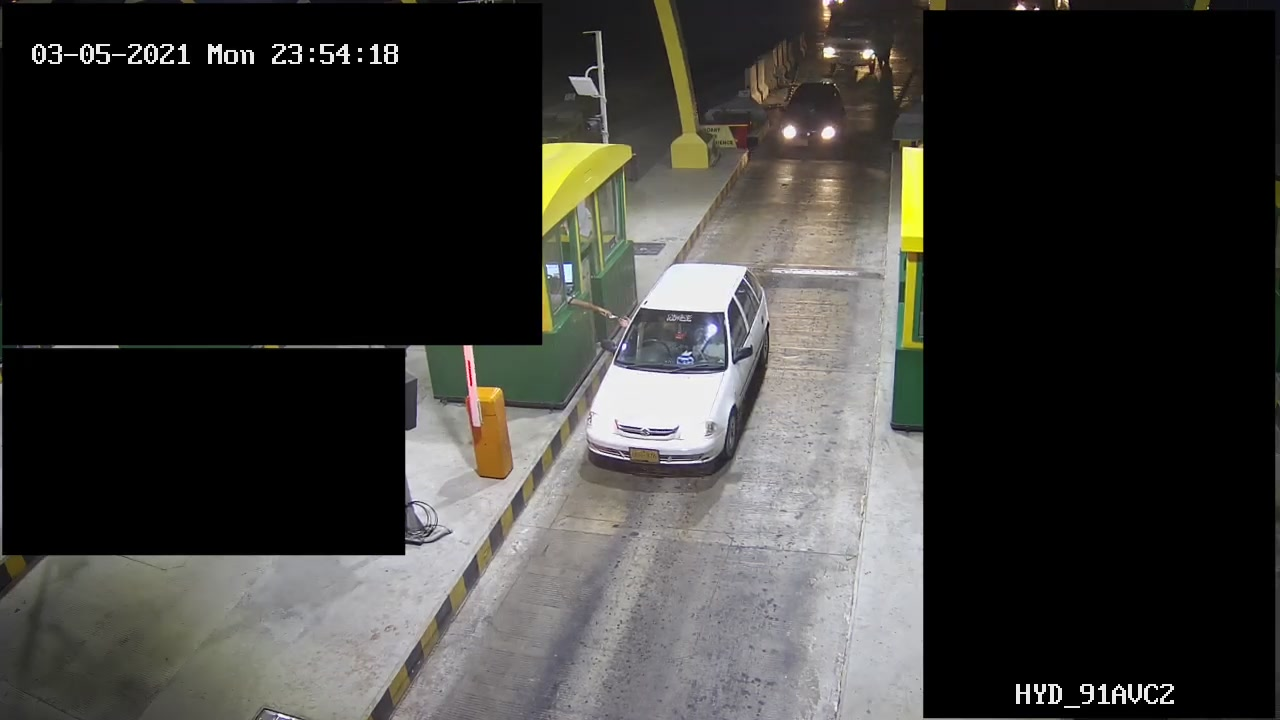F1: (576, 246, 778, 492)
